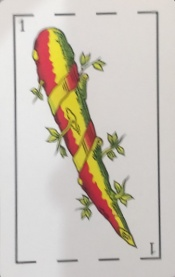1b: (10, 9, 161, 35)
